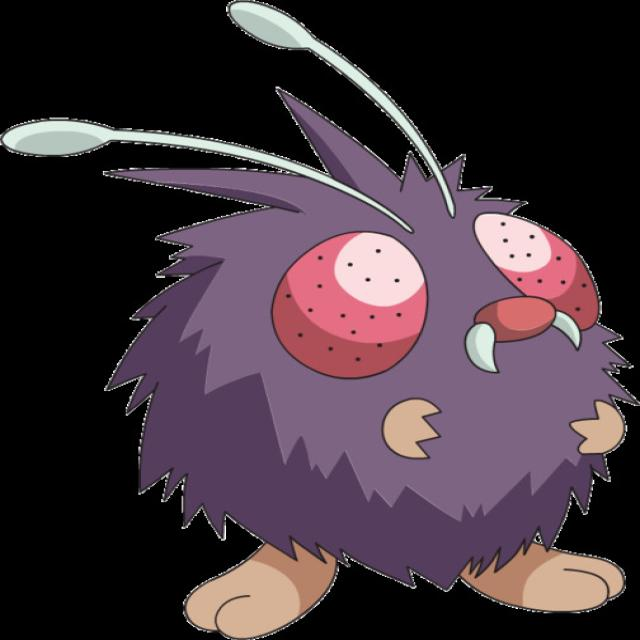Venonat: (91, 86, 640, 640)
